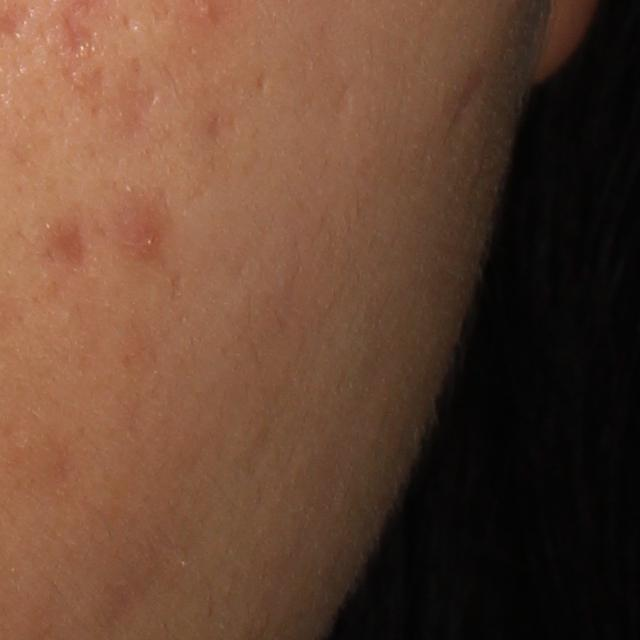atrophic_scar: (443, 62, 491, 138), (64, 14, 93, 60), (255, 71, 270, 92)
